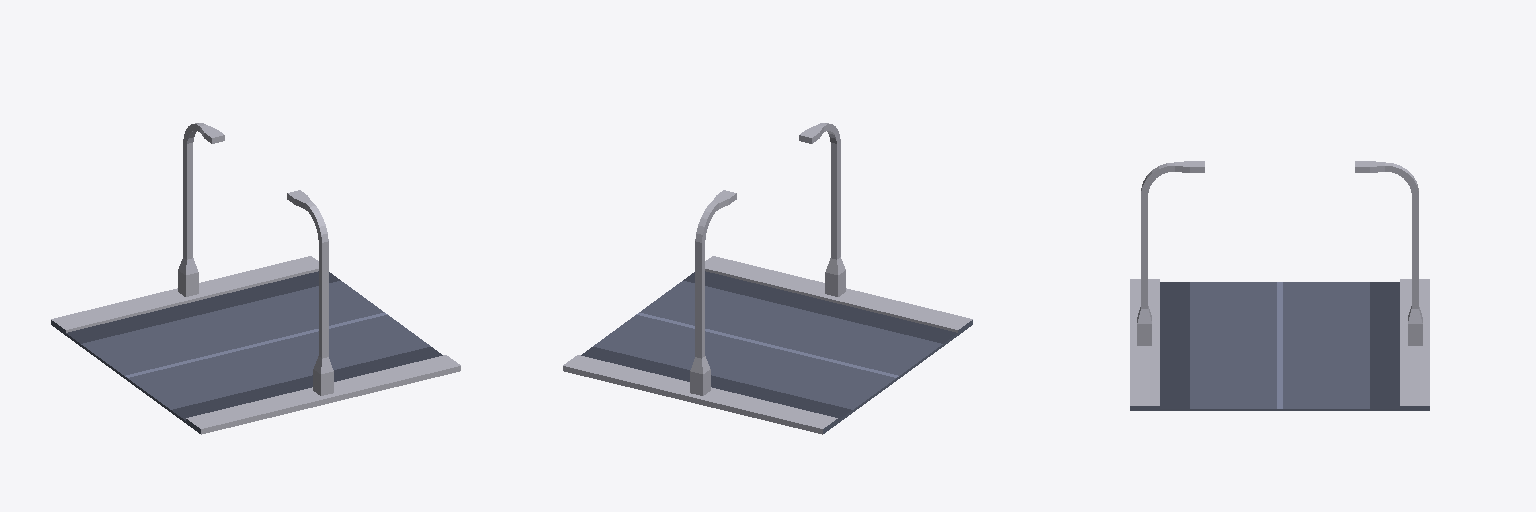
File: city_road_lit.obj
3 views of the same model, side by side, from view 1: azimuth 30°, elevation 25°; view 2: azimuth 150°, elevation 25°; view 3: azimuth 270°, elevation 25° (orthographic).
Visible parts, largest first — view 1: mergedBlocks; view 2: mergedBlocks; view 3: mergedBlocks.
Part boxes in pixels (bbox=[...]): mergedBlocks: bbox=[51, 123, 460, 434]; mergedBlocks: bbox=[563, 123, 972, 434]; mergedBlocks: bbox=[1130, 161, 1429, 410].
Size of the model in its own units: 1 by 0.675 by 1.